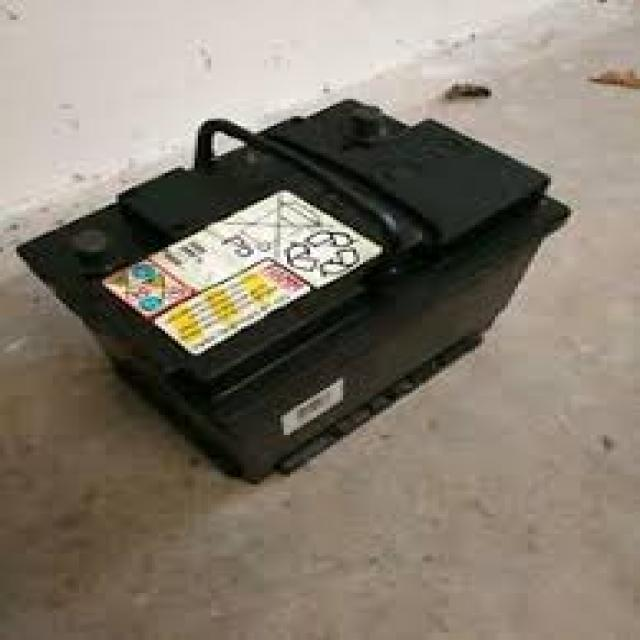non-organic waste: (15, 94, 572, 486)
